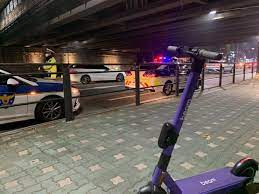kick_board: (140, 45, 259, 190)
kick_handler: (167, 44, 221, 64)
kick_neck: (149, 74, 198, 177)
kick_wheel: (232, 159, 258, 183)
